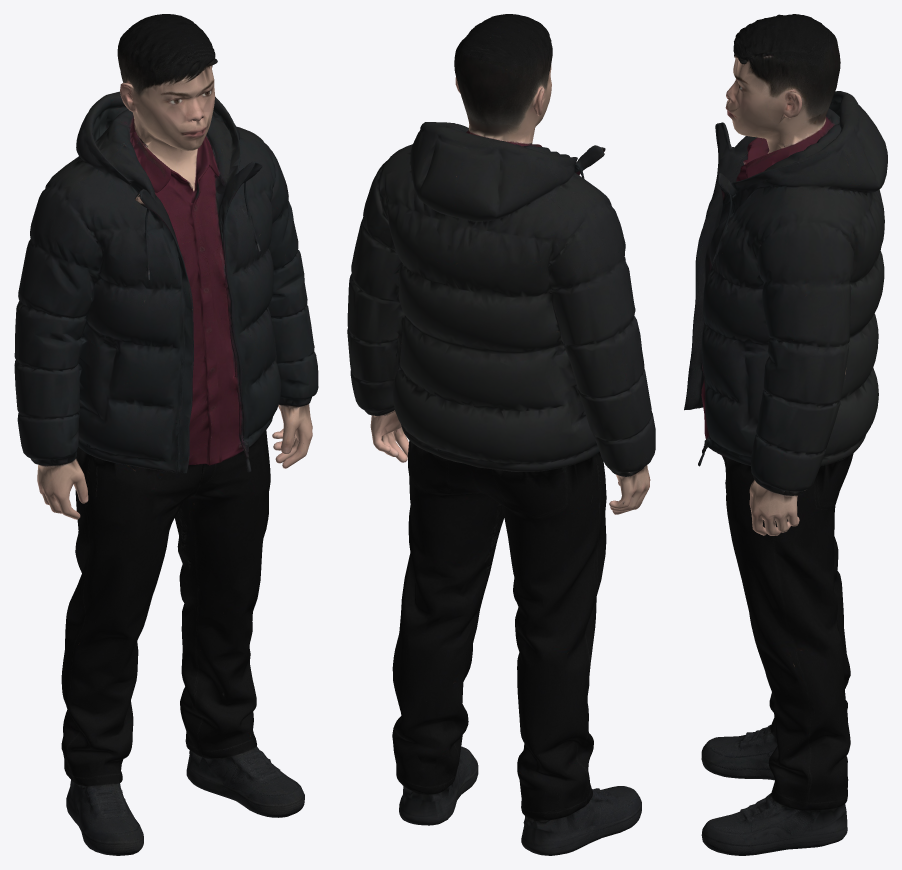
Rendered from modelo.glb.
3 renders of one model, left to right at view 1: azimuth 30°, elevation 25°; view 2: azimuth 150°, elevation 25°; view 3: azimuth 270°, elevation 25°, orthographic.
Bounding box in the file's own units: 0.7094 × 1.85 × 0.4339.
1 material, 1 textured.
